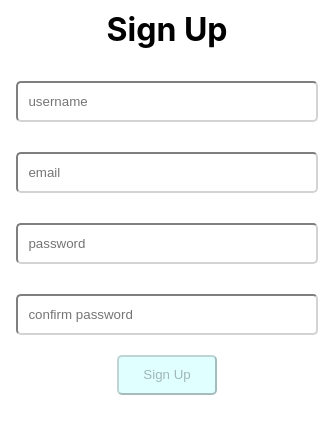
Scenario: Sign Up Page › form validation › password validation
This screenshot has width=335, height=427.
Type "Maxwell" into the field with placeholder "username". click: (167, 101)
box: [16,81,318,122]
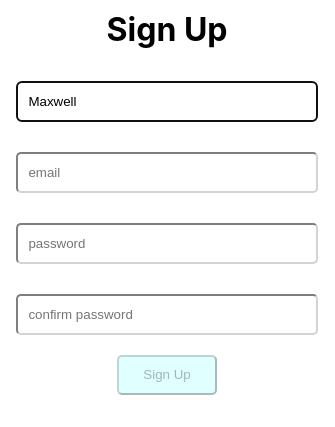
Type "max@test.com" into the field with placeholder "email". click: (167, 172)
box: [16,152,318,193]
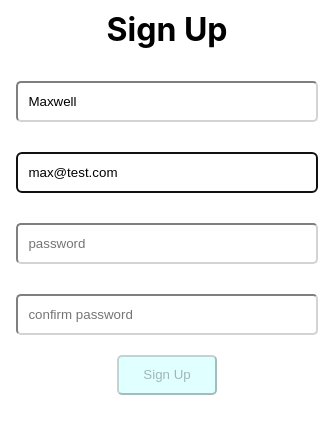
Type "1 2" into the password field with placeholder "password". click: (167, 243)
box: [16,223,318,264]
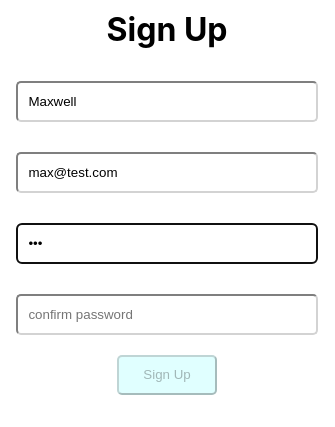
Type "1 2" into the password field with placeholder "confirm password". click: (167, 314)
box: [16,294,318,335]
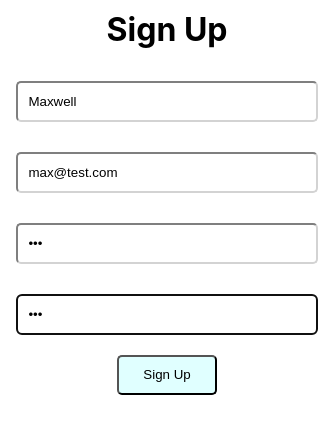
Click the button "Sign Up". click: (167, 375)
box: [117,355,217,395]
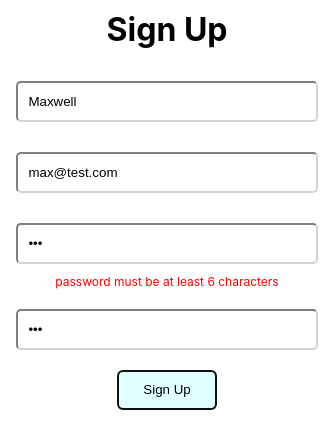
Expected: the text "password must be at least 6 characters" is shown, [55,274,279,299]
